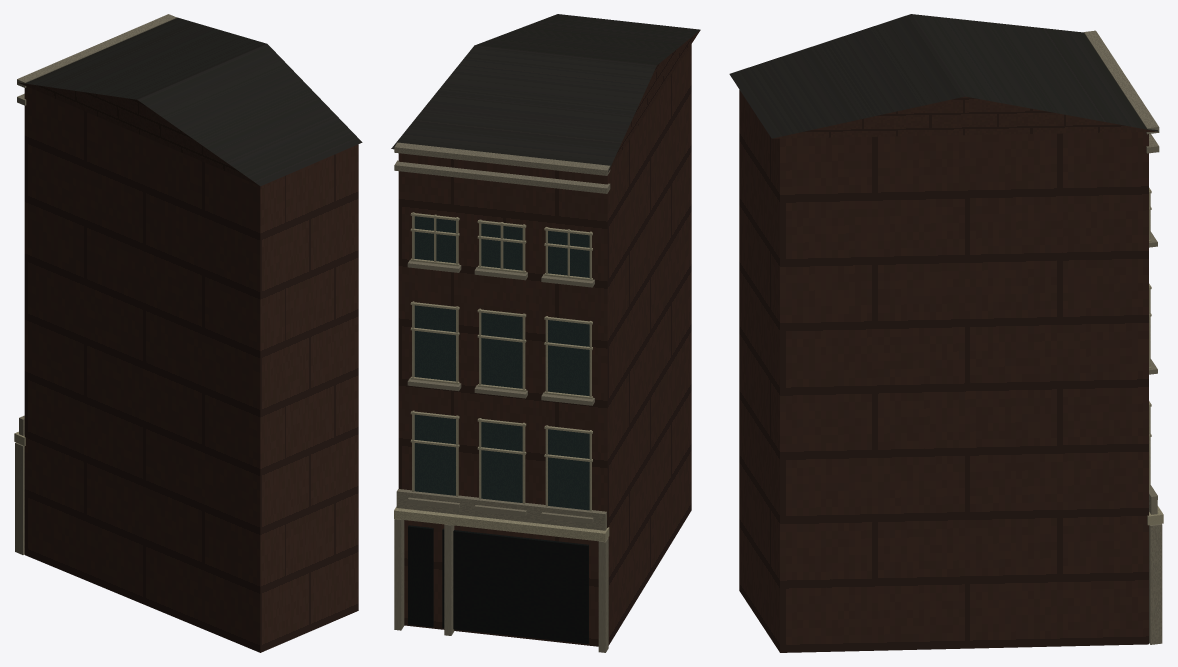
The picture shows the model from 3 angles, left to right: view 1: azimuth 30°, elevation 25°; view 2: azimuth 150°, elevation 25°; view 3: azimuth 270°, elevation 25°; orthographic projection. The views are drawn at different scales.
Visible parts, largest first — view 1: zuidblaak14-0, zuidblaak14-1, zuidblaak14-4; view 2: zuidblaak14-0, zuidblaak14-1, zuidblaak14-2, zuidblaak14-5, zuidblaak14-4, zuidblaak14-3; view 3: zuidblaak14-0, zuidblaak14-1, zuidblaak14-4, zuidblaak14-3.
Part boxes in pixels (x1,y1,x2,y2): zuidblaak14-0: [18, 82, 358, 652]; zuidblaak14-1: [18, 17, 362, 186]; zuidblaak14-4: [15, 14, 176, 554]; zuidblaak14-0: [398, 30, 700, 646]; zuidblaak14-1: [391, 14, 700, 171]; zuidblaak14-2: [414, 216, 589, 510]; zuidblaak14-5: [408, 525, 588, 643]; zuidblaak14-4: [394, 142, 610, 652]; zuidblaak14-3: [394, 212, 609, 541]; zuidblaak14-0: [739, 90, 1156, 652]; zuidblaak14-1: [729, 14, 1158, 138]; zuidblaak14-4: [1084, 30, 1162, 644]; zuidblaak14-3: [1147, 187, 1163, 525].
Size of the model in its own units: 7.59 by 18.6 by 13.24.
Materials: 6 (6 with a texture image).
